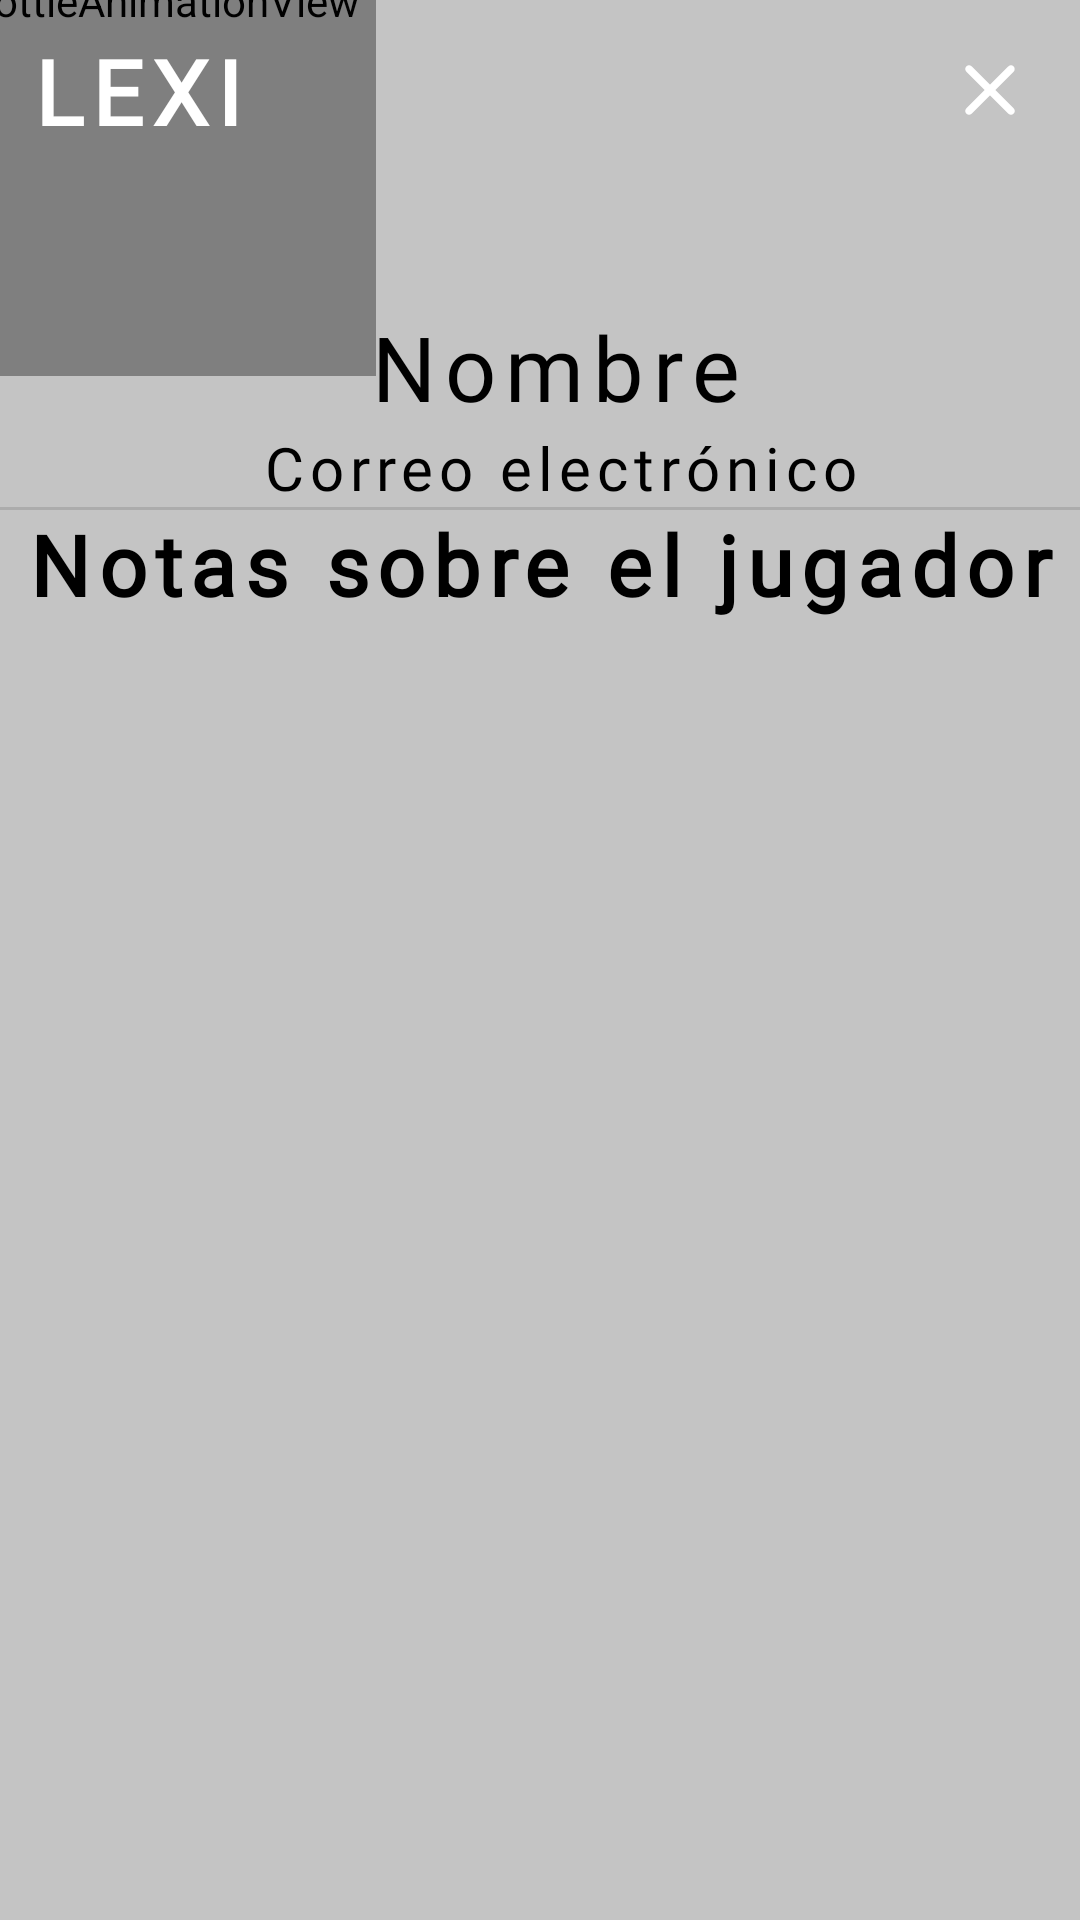

Icons on this 1080×1920 Android screen, each with the point to tap as (x,y):
close: (990,90)
